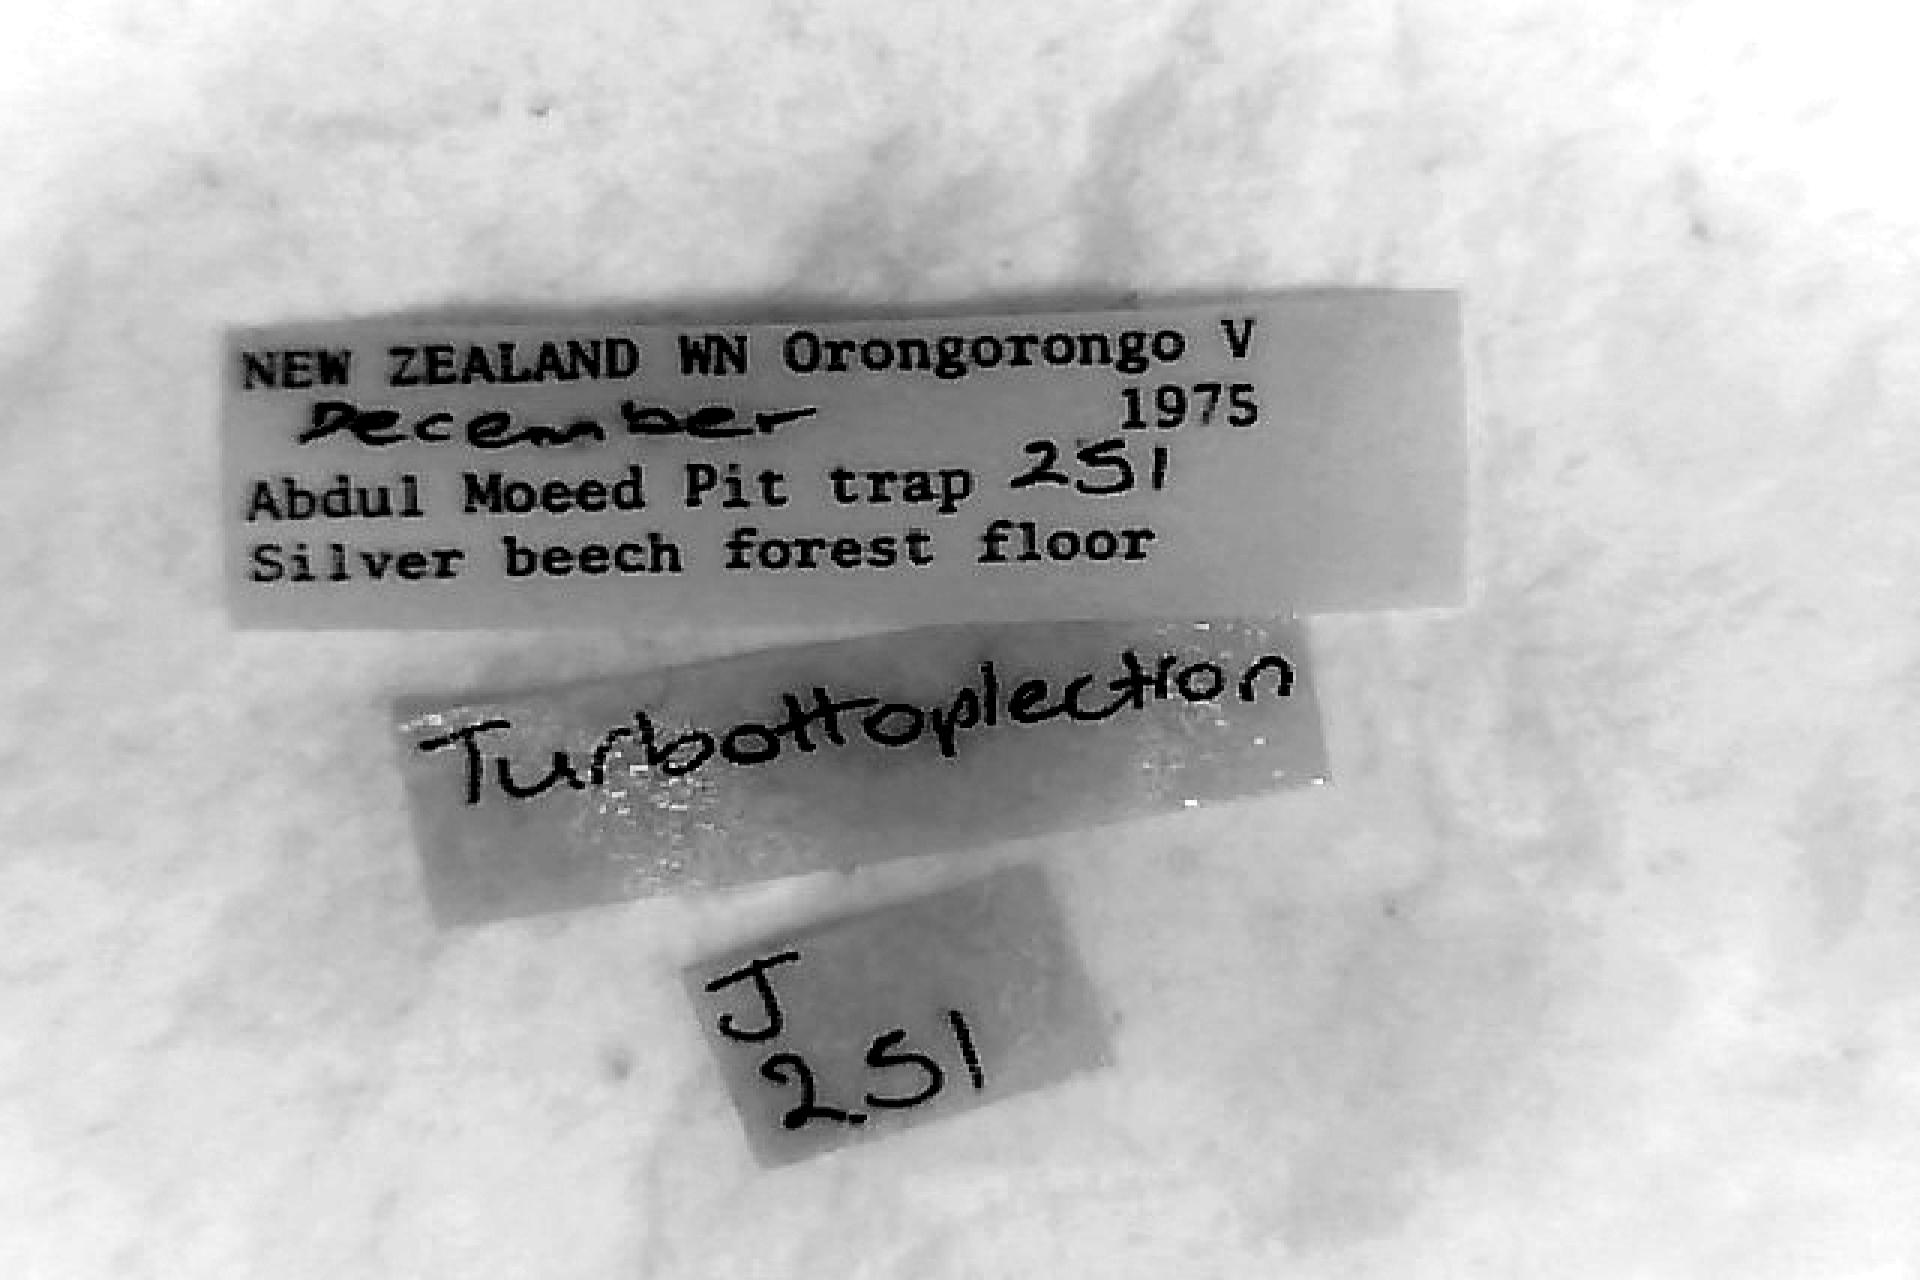hand_label: (397, 620, 1327, 921), (690, 873, 1106, 1167)
mixed_label: (226, 290, 1466, 627)
